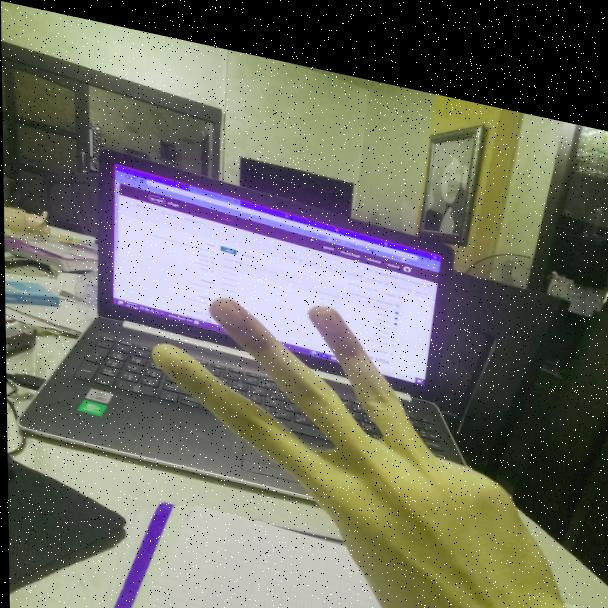five: (140, 249, 529, 608)
